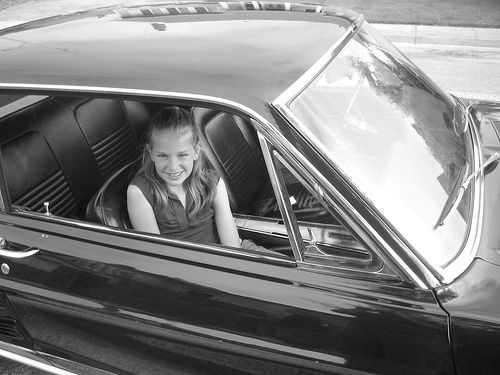without_mask: (145, 122, 205, 190)
